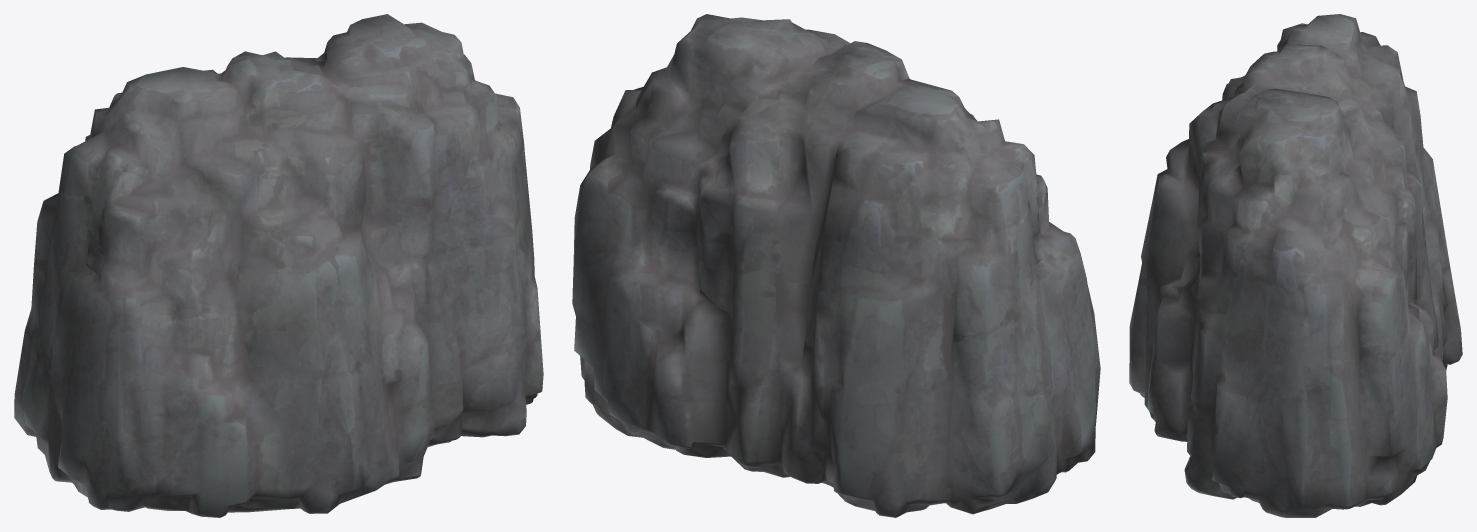
The model's file is stone-7.fbx.
3 views of the same model, side by side, from view 1: azimuth 30°, elevation 25°; view 2: azimuth 150°, elevation 25°; view 3: azimuth 270°, elevation 25° (orthographic). The views are drawn at different scales.
Parts seen in each view (by area): view 1: Area_Ly_Stone_CSPY_Full_L_03_Lod0; view 2: Area_Ly_Stone_CSPY_Full_L_03_Lod0; view 3: Area_Ly_Stone_CSPY_Full_L_03_Lod0.
Part boxes in pixels (bbox=[...]): Area_Ly_Stone_CSPY_Full_L_03_Lod0: bbox=[14, 14, 543, 517]; Area_Ly_Stone_CSPY_Full_L_03_Lod0: bbox=[572, 14, 1100, 517]; Area_Ly_Stone_CSPY_Full_L_03_Lod0: bbox=[1129, 14, 1462, 517].
Size of the model in its own units: 3960 by 3030 by 2547.
Materials: 1 (1 with a texture image).
